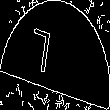L_S: (42, 26, 68, 84)
